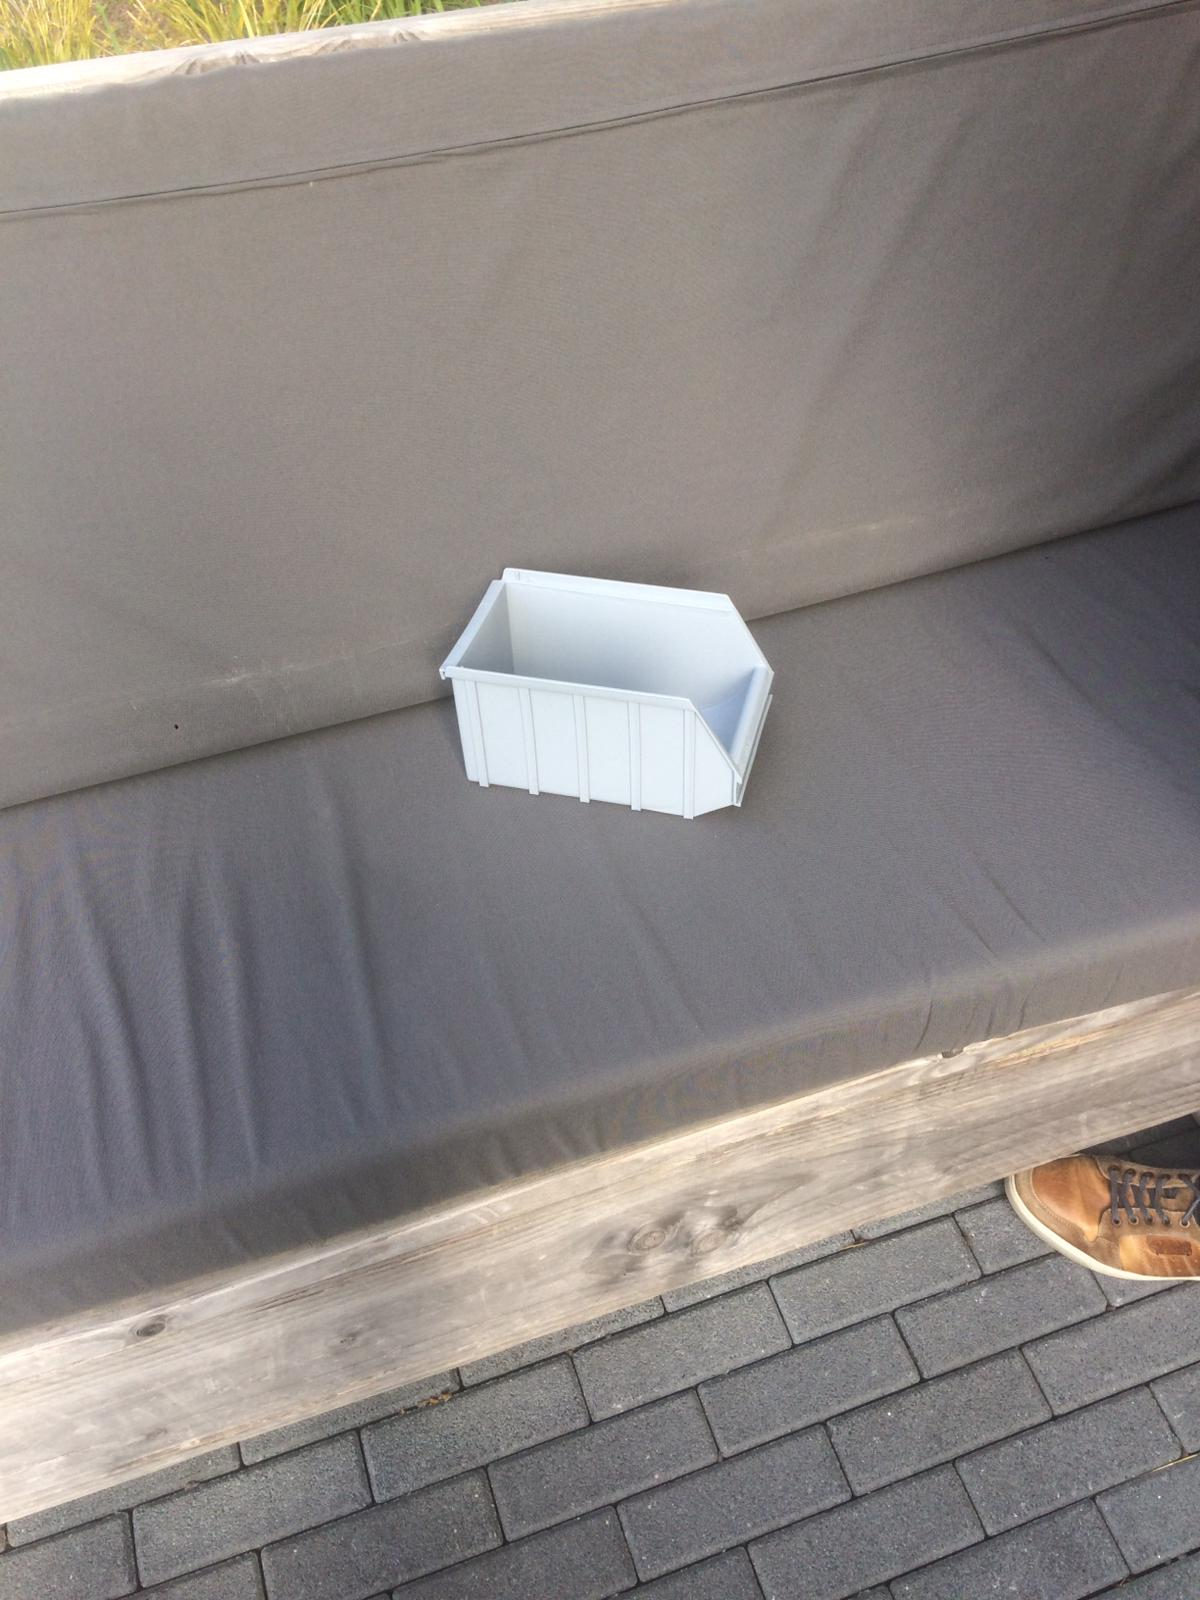tray_left: (434, 660, 753, 819)
